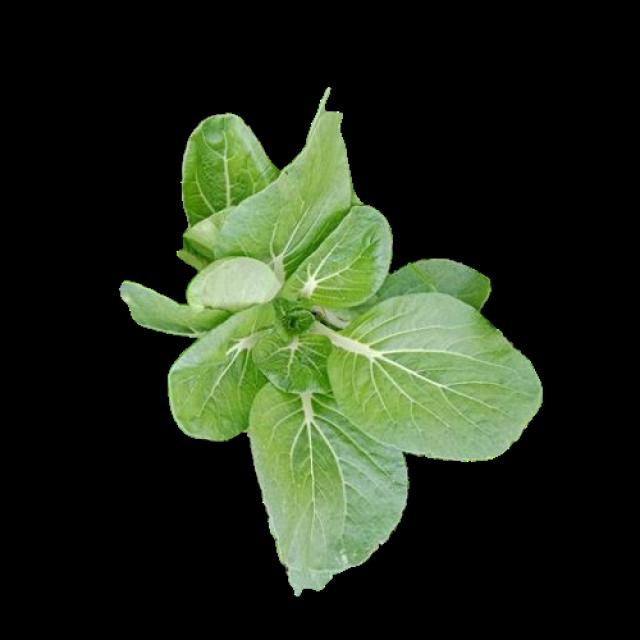not-mature: (126, 114, 540, 587)
unhealthy: (250, 384, 406, 588)
